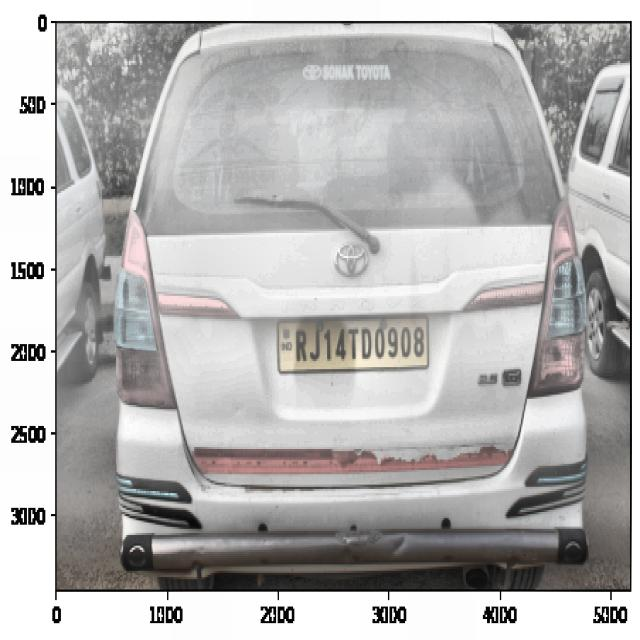license_plate: (288, 321, 429, 368)
